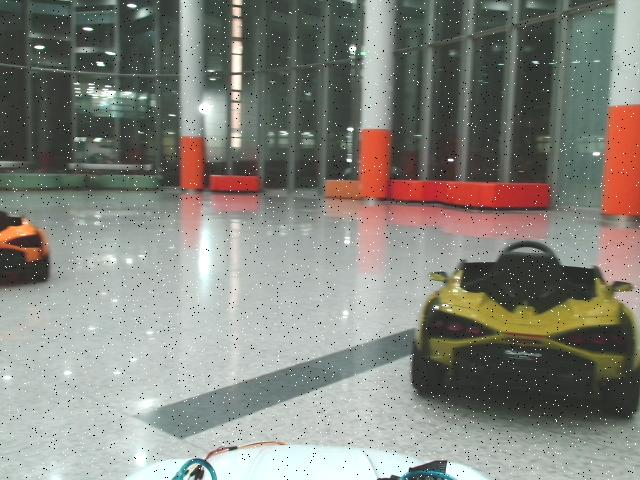car: (412, 241, 640, 417), (1, 210, 50, 290)
